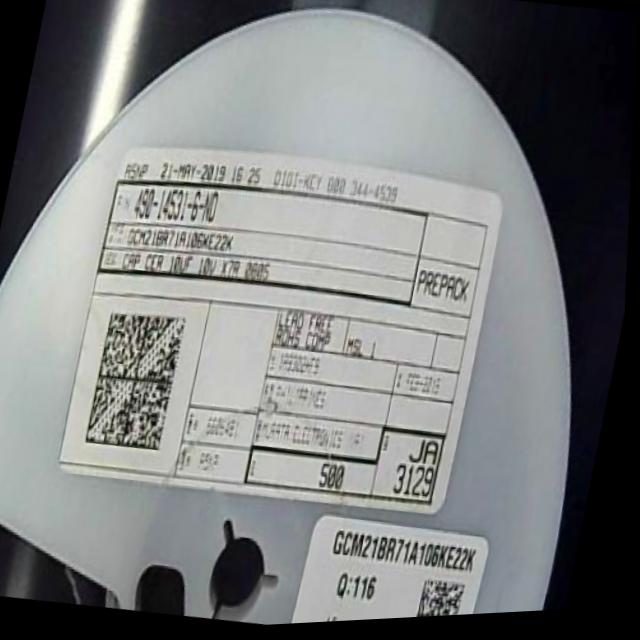datamatrix: (88, 308, 193, 460), (418, 579, 473, 623)
